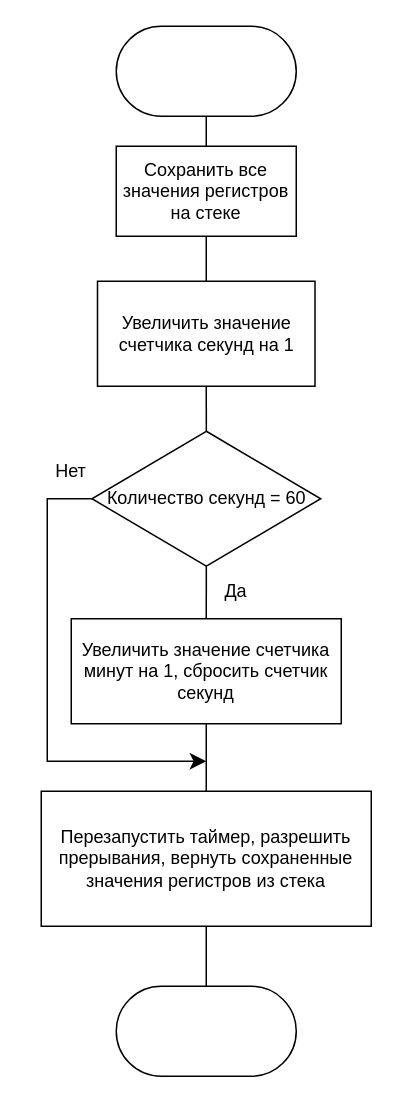
The diagram is 398 pixels wide and 1103 high, and some of its shapes have lost their labels. The box of each missing label's shape, as (x1, y1, x2, y2) in pixels:
Конец: (115, 985, 296, 1076)
Начало: (115, 25, 296, 116)
